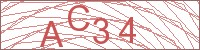3: (92, 17, 109, 45)
4: (117, 16, 137, 45)
A: (40, 19, 64, 49)
C: (67, 4, 90, 32)
